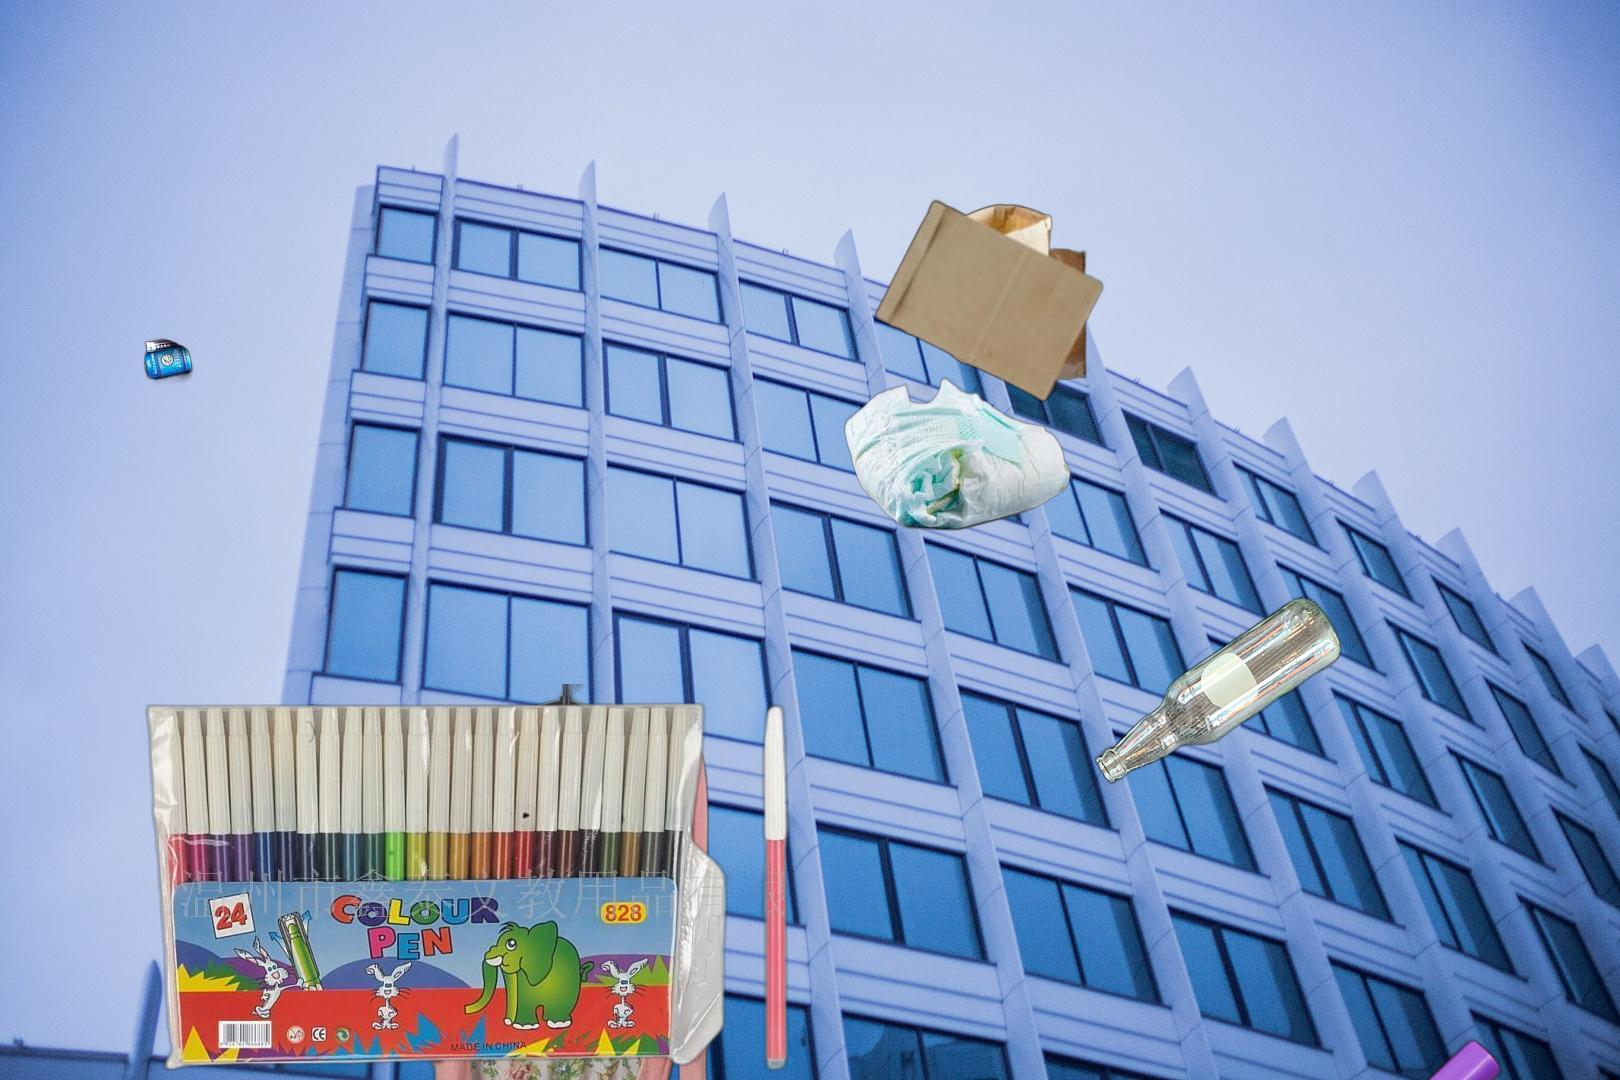battery: (137, 212, 276, 400)
biological: (438, 769, 697, 855)
clothes: (407, 683, 712, 1080)
glass: (1091, 591, 1346, 790)
paper-bag: (873, 196, 1107, 404)
penholder: (139, 698, 877, 1075), (1116, 1034, 1620, 1080)
trash: (841, 370, 1074, 533)
